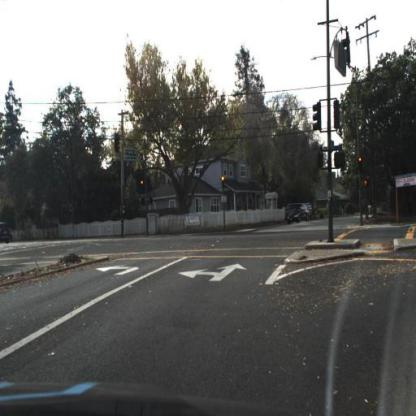car: (287, 204, 311, 227)
trafficLight: (221, 173, 226, 191)
trafficLight-Red: (140, 180, 145, 190)
